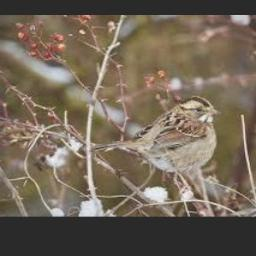Sparrow: (91, 96, 222, 184)
